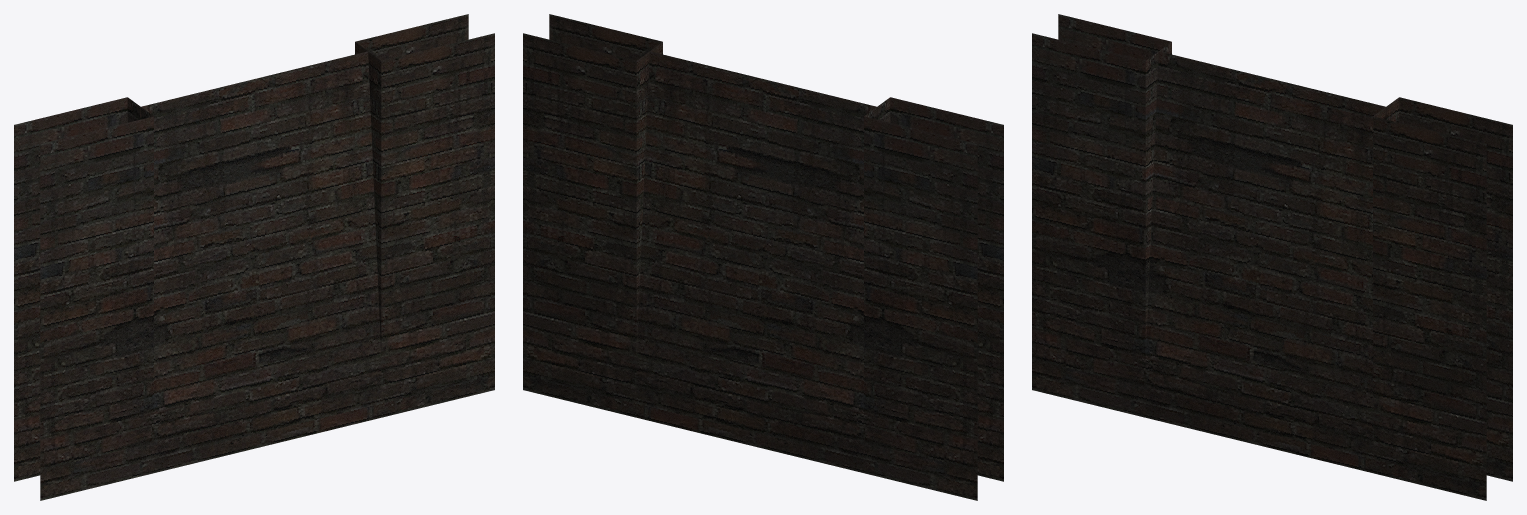
The model's file is wall_hs_1_t_1.glb.
3 renders of one model, left to right at view 1: azimuth 30°, elevation 25°; view 2: azimuth 150°, elevation 25°; view 3: azimuth 330°, elevation 25°, orthographic.
Visible parts, largest first — view 1: wall_hs_1_t_1; view 2: wall_hs_1_t_1; view 3: wall_hs_1_t_1.
Part boxes in pixels (<box>): wall_hs_1_t_1: <box>14,14,494,500</box>; wall_hs_1_t_1: <box>523,14,1003,500</box>; wall_hs_1_t_1: <box>1032,14,1512,500</box>.
Size of the model in its own units: 4 by 3 by 0.4.
Materials: 1 (1 with a texture image).
